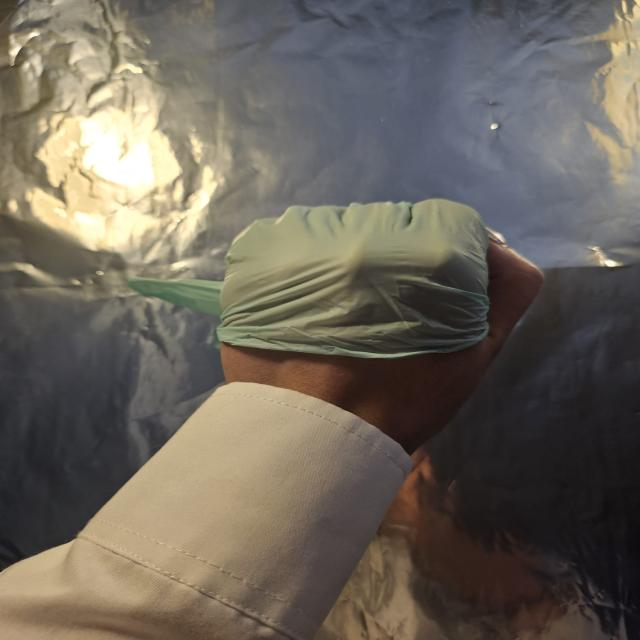glove_partial: (129, 199, 547, 437)
